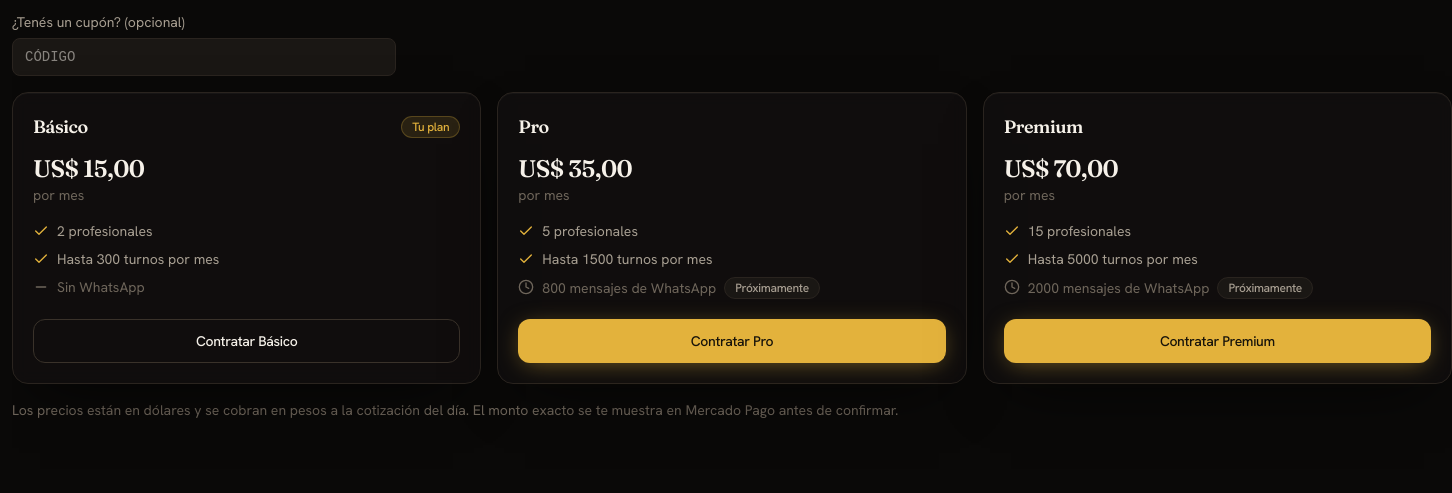
Test case: PlanPicker › muestra el error que devuelve la action
Click the button "Contratar Pro" at (732, 341), box left=518, top=319, right=946, bottom=363
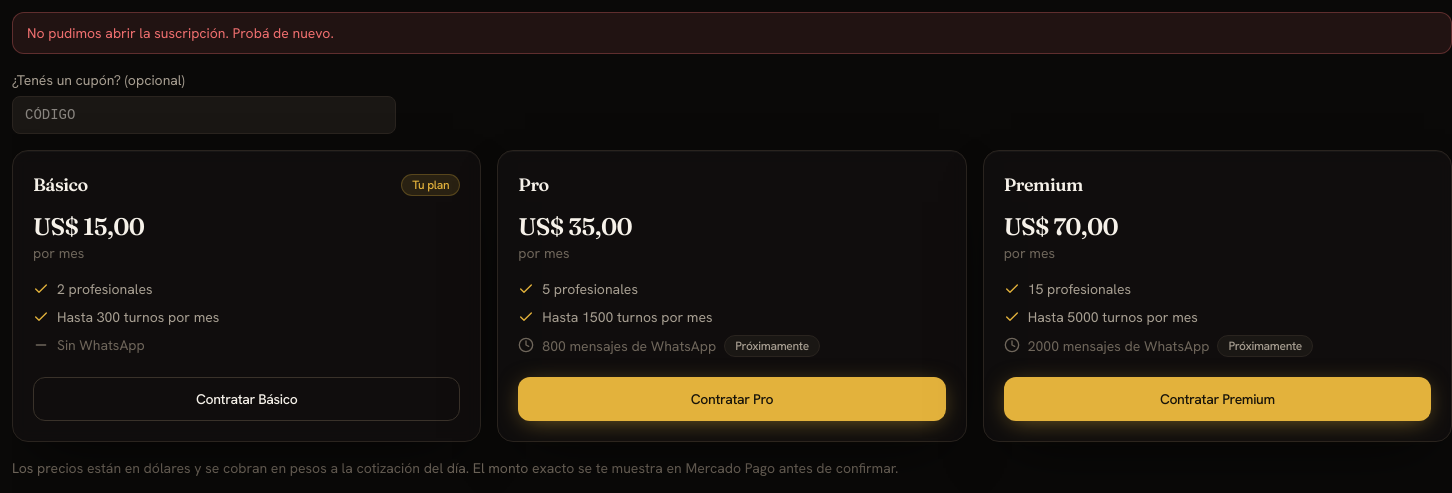
Check: the text "No pudimos abrir la suscripción. Probá de nuevo." is shown, box left=12, top=12, right=1451, bottom=54
